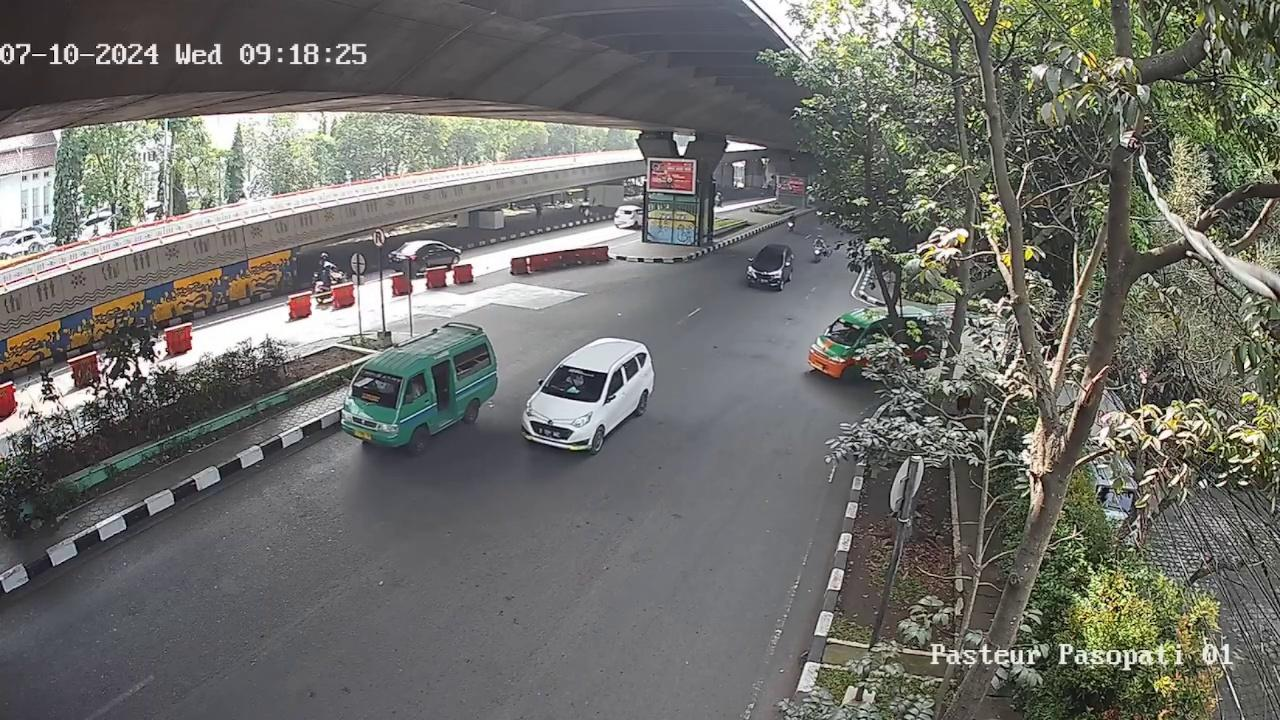pakai: (565, 372, 587, 390)
windshield: (544, 361, 607, 401), (350, 364, 404, 406)
